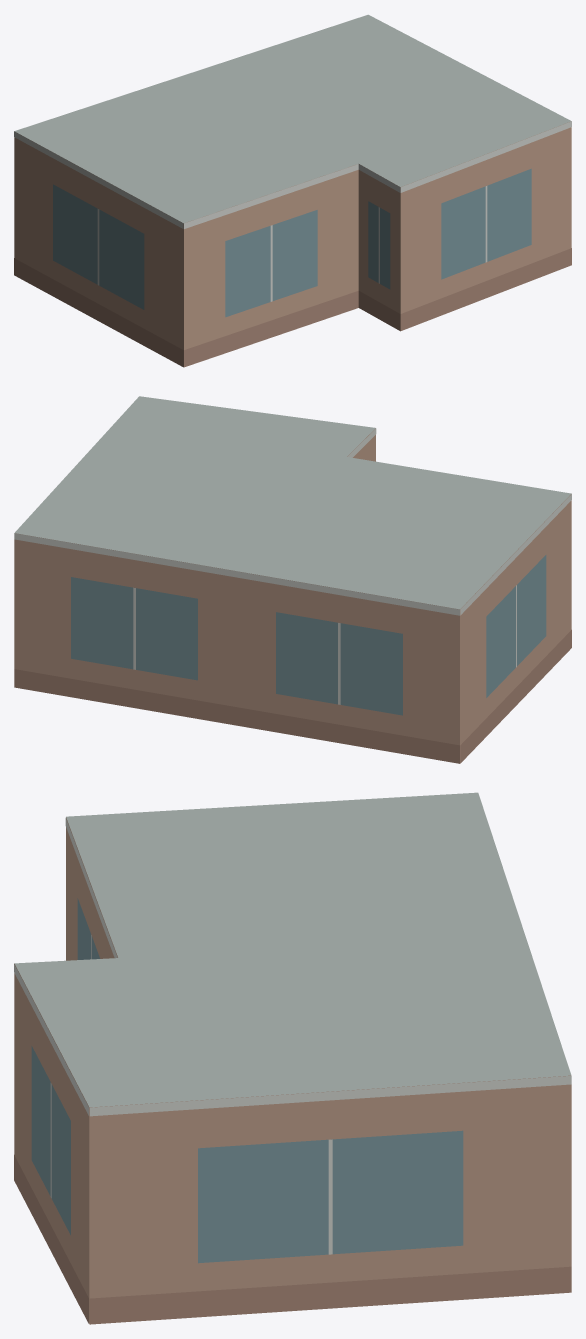
File: survey-upis-32950574.glb
The picture shows the model from 3 angles, top to bottom: view 1: azimuth 30°, elevation 25°; view 2: azimuth 150°, elevation 25°; view 3: azimuth 270°, elevation 25°; orthographic projection. The views are drawn at different scales.
Visible parts, largest first — view 1: survey-upis-32950574.tmp; view 2: survey-upis-32950574.tmp; view 3: survey-upis-32950574.tmp.
Boxes of the visible parts, x1,y1,x2,y2 form: survey-upis-32950574.tmp: [14, 14, 571, 367]; survey-upis-32950574.tmp: [14, 396, 571, 763]; survey-upis-32950574.tmp: [14, 792, 571, 1324].
Size of the model in its own units: 9.51 by 3.05 by 7.11.
